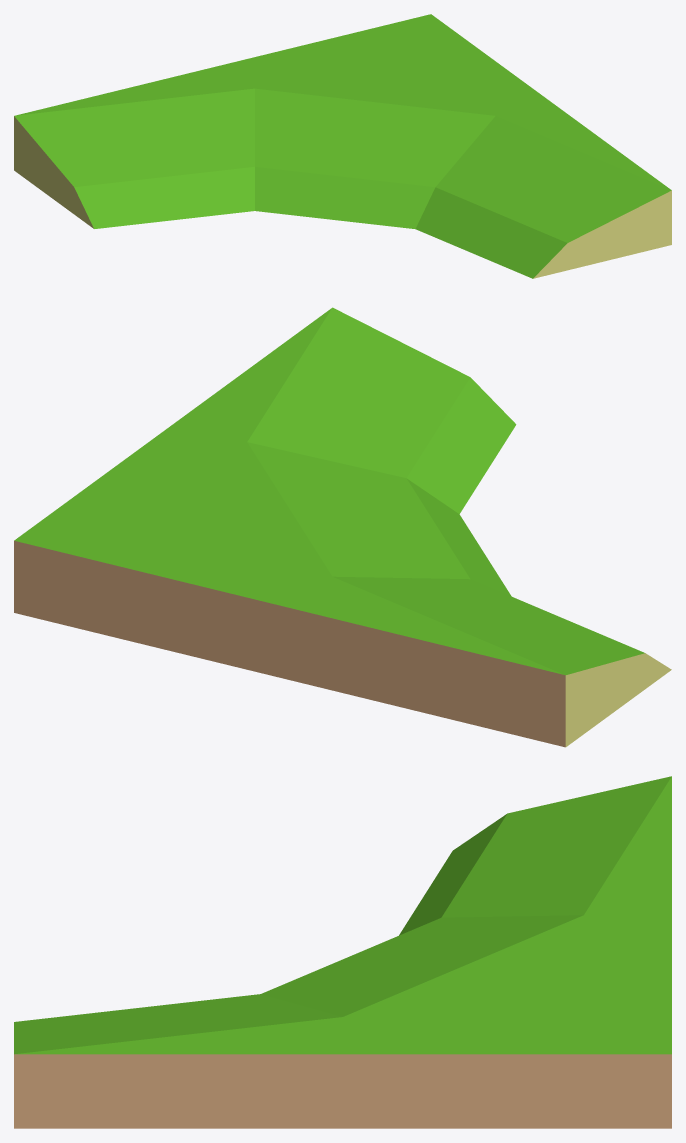
File: Grass_Carpet_Curve_Inner_2x2.glb
The picture shows the model from 3 angles, top to bottom: view 1: azimuth 30°, elevation 25°; view 2: azimuth 150°, elevation 25°; view 3: azimuth 270°, elevation 25°; orthographic projection. The views are drawn at different scales.
Parts seen in each view (by area): view 1: Grass_Carpet_Curve_Inner_2x2; view 2: Grass_Carpet_Curve_Inner_2x2; view 3: Grass_Carpet_Curve_Inner_2x2.
Boxes of the visible parts, left/top/right/bottom form: Grass_Carpet_Curve_Inner_2x2: left=14, top=14, right=671, bottom=278; Grass_Carpet_Curve_Inner_2x2: left=14, top=307, right=671, bottom=747; Grass_Carpet_Curve_Inner_2x2: left=14, top=776, right=671, bottom=1128.
Size of the model in its own units: 200 by 25 by 200.
